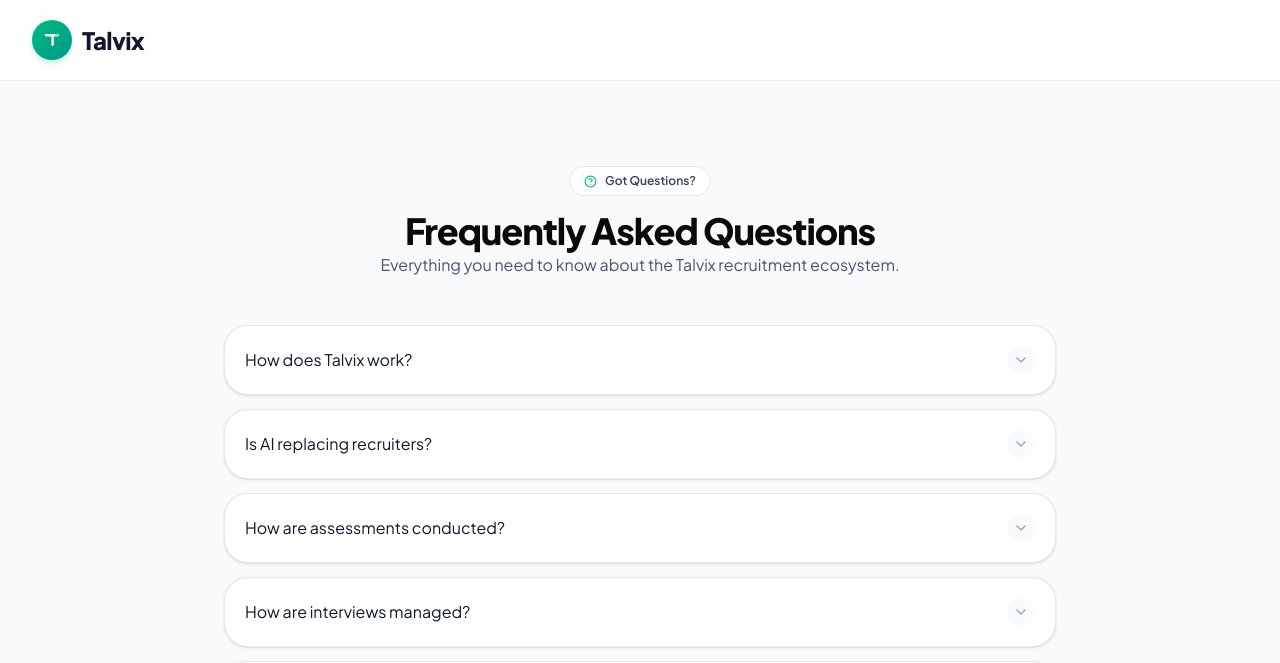
it: LandingPage Component › expands FAQ Accordion on click
The width and height of the screenshot is (1280, 663).
(page scrolled)
Click to open
Click the button "How does Talvix work?" at (329, 360), box 225,326 -> 1055,394
(page scrolled)
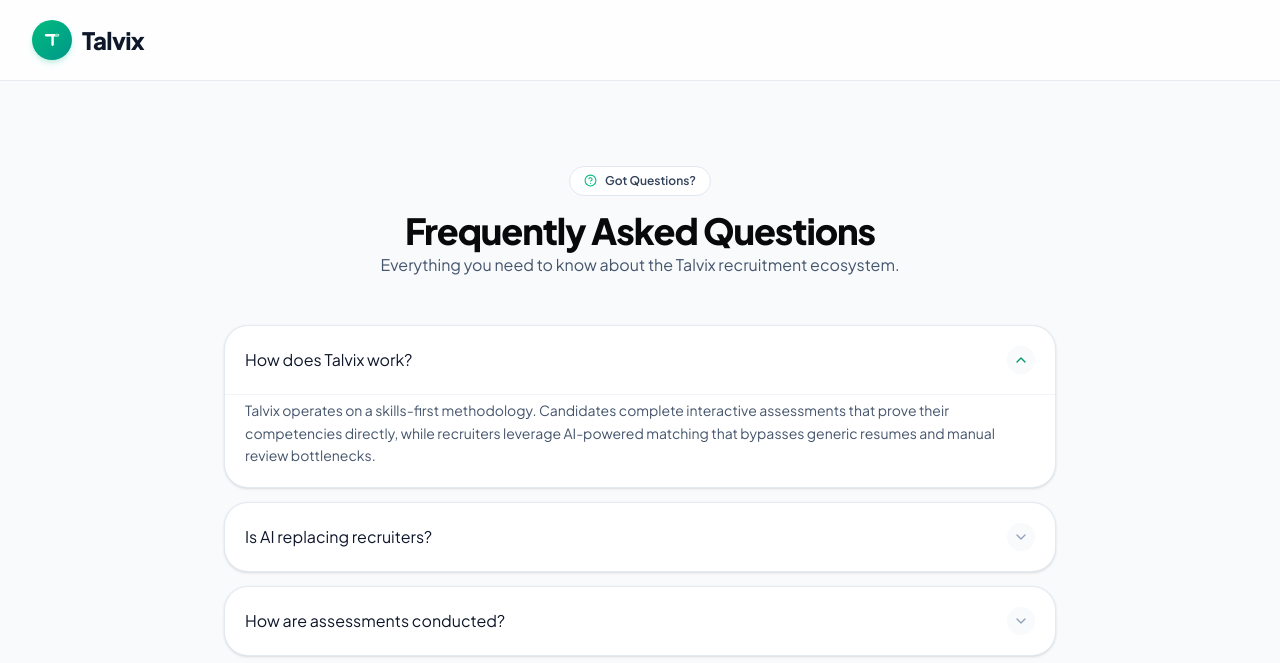
Expected: the button "How does Talvix work?" is expanded, 225,326 -> 1055,394
